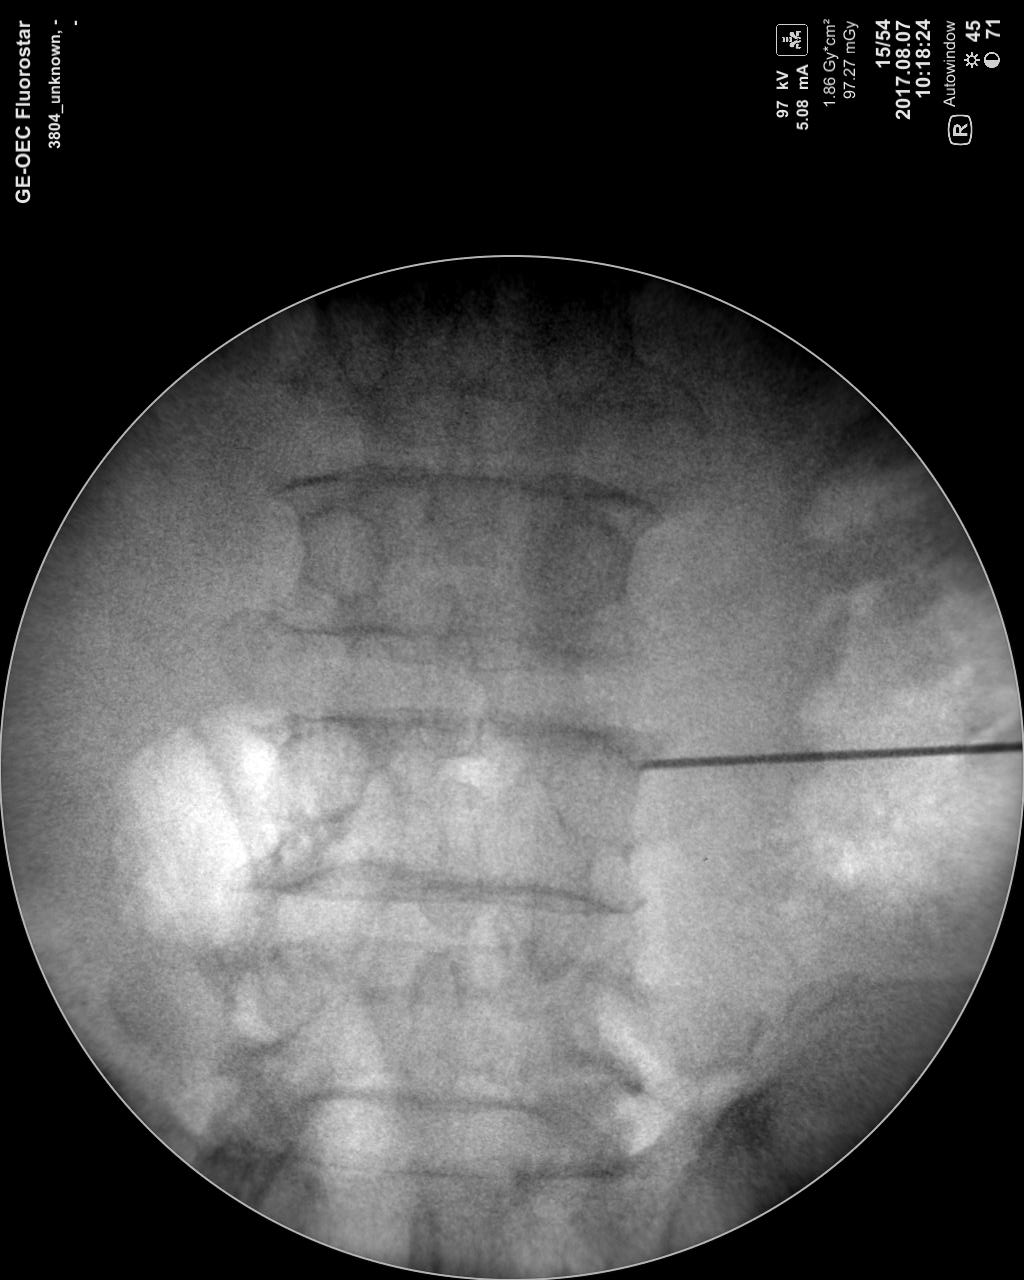eyes: (537, 746, 648, 844), (262, 725, 370, 825), (295, 501, 395, 607), (529, 515, 635, 615), (225, 953, 331, 1044)
nose: (410, 600, 498, 761), (414, 776, 491, 940), (395, 950, 471, 1113), (416, 396, 498, 544)
